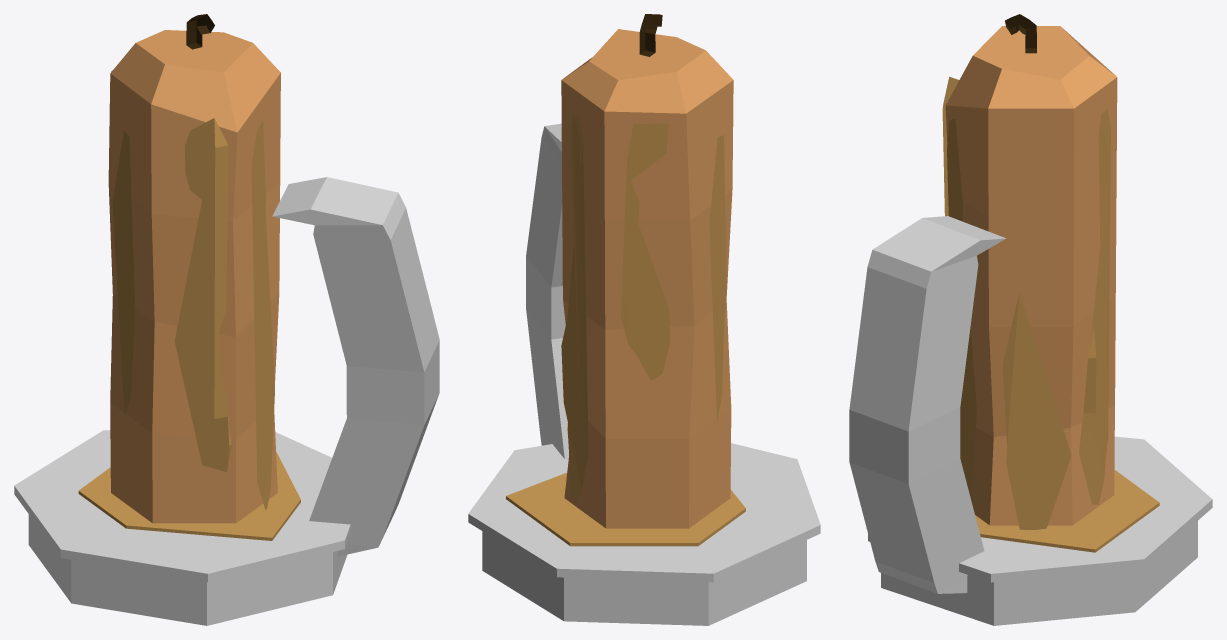
The model's file is CandleReReReExported.fbx.
3 views of the same model, side by side, from view 1: azimuth 30°, elevation 25°; view 2: azimuth 150°, elevation 25°; view 3: azimuth 270°, elevation 25° (orthographic).
Parts seen in each view (by area): view 1: Candle; view 2: Candle; view 3: Candle.
Part boxes in pixels (x1,y1,x2,y2): Candle: (14,14,439,625); Candle: (468,14,820,625); Candle: (849,14,1212,625).
Size of the model in its own units: 232 by 358 by 218.
